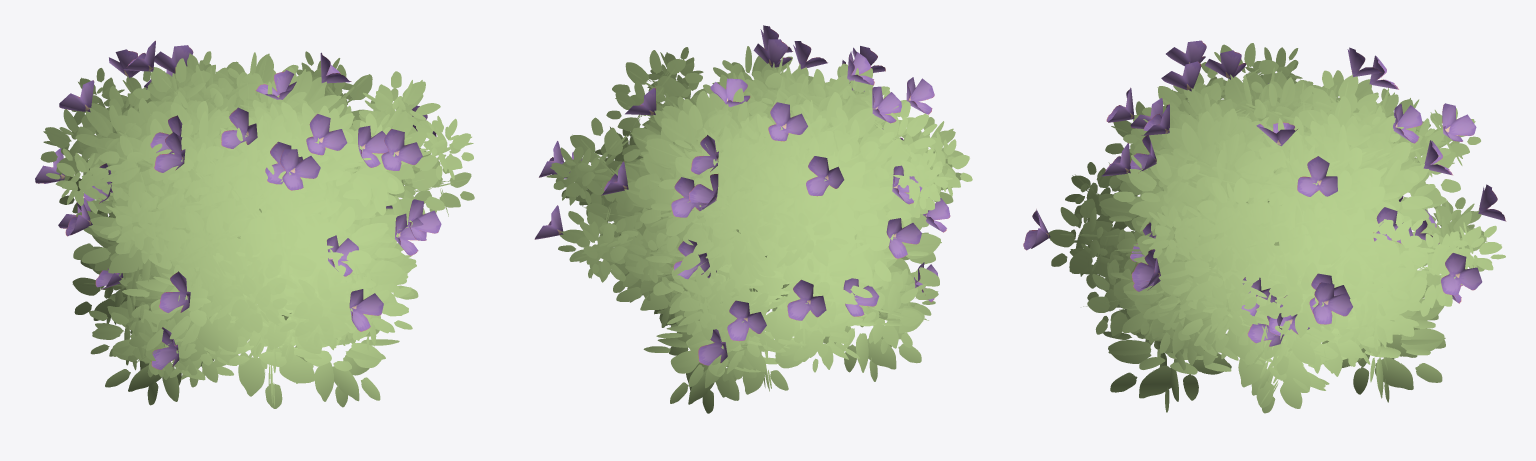
Rendered from bush_common_flowers.glb.
3 renders of one model, left to right at view 1: azimuth 30°, elevation 25°; view 2: azimuth 150°, elevation 25°; view 3: azimuth 270°, elevation 25°, orthographic. The views are drawn at different scales.
Parts seen in each view (by area): view 1: Bush_Common_Flowers; view 2: Bush_Common_Flowers; view 3: Bush_Common_Flowers.
Boxes of the visible parts, bbox=[...] form: Bush_Common_Flowers: bbox=[35, 40, 474, 408]; Bush_Common_Flowers: bbox=[534, 25, 972, 413]; Bush_Common_Flowers: bbox=[1023, 40, 1506, 413].
Bounding box in the file's own units: 1.09 × 0.9 × 1.12.
Materials: 2 (2 with a texture image).
